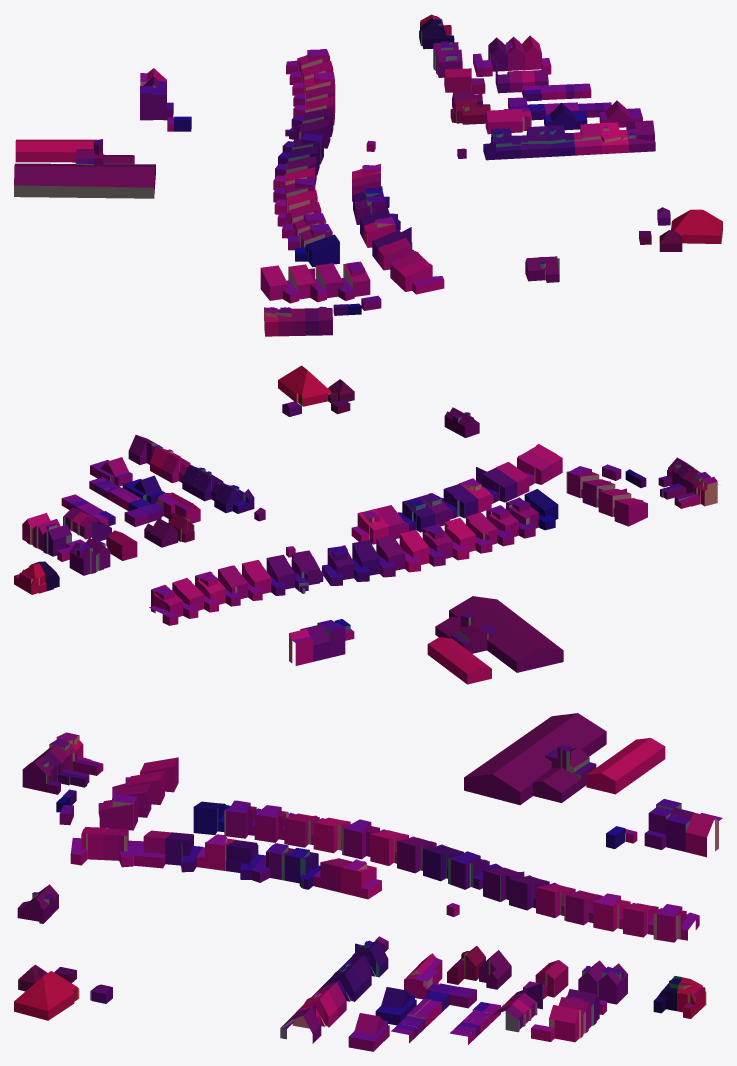
Rendered from buildings_12_6.glb.
3 renders of one model, top to bottom at view 1: azimuth 30°, elevation 25°; view 2: azimuth 150°, elevation 25°; view 3: azimuth 270°, elevation 25°, orthographic. The views are drawn at different scales.
Visible parts, largest first — view 1: buildings_12_6; view 2: buildings_12_6; view 3: buildings_12_6.
Boxes of the visible parts, x1,y1,x2,y2 form: buildings_12_6: (14,14,722,336); buildings_12_6: (14,365,718,684); buildings_12_6: (14,713,722,1051).
Size of the model in its own units: 227 by 11.42 by 211.
